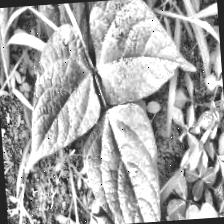ALS: (16, 20, 102, 170), (87, 0, 202, 104)
